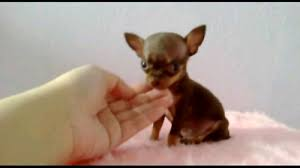chihuahua: (118, 17, 242, 150)
